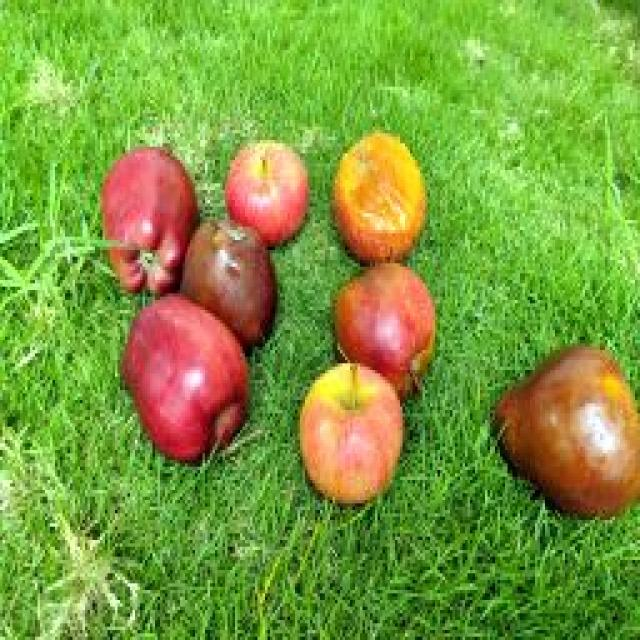Organik: (478, 317, 626, 522), (111, 296, 249, 468), (313, 129, 446, 269), (92, 137, 206, 298), (298, 359, 409, 513), (324, 259, 445, 386), (224, 137, 313, 250)
